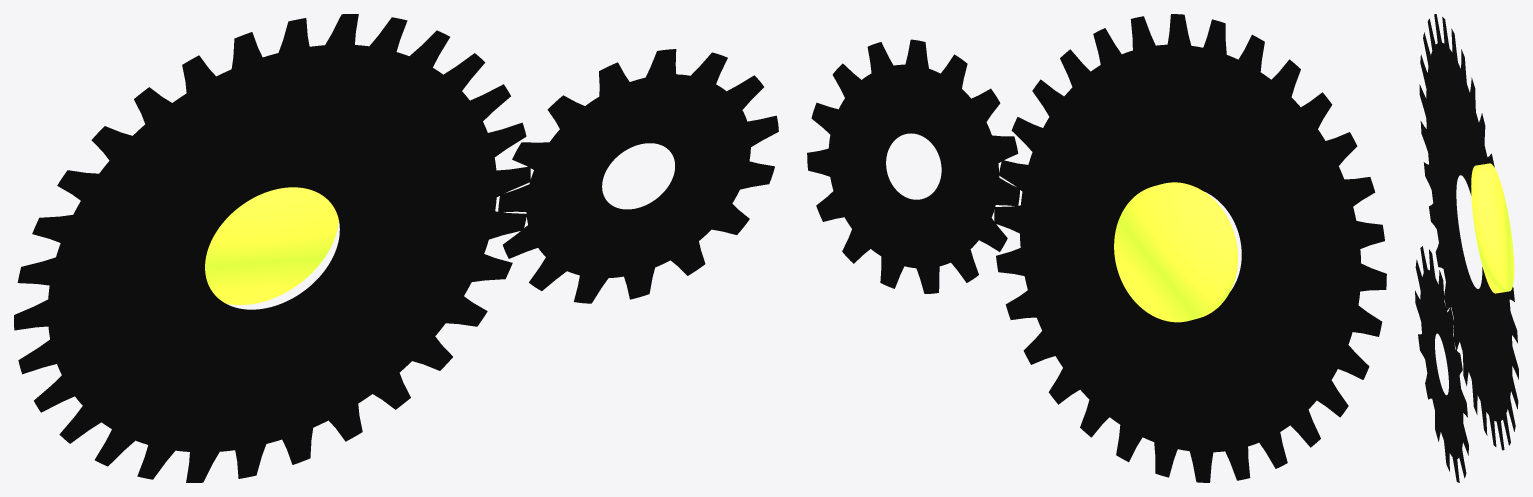
3 renders of one model, left to right at view 1: azimuth 30°, elevation 25°; view 2: azimuth 150°, elevation 25°; view 3: azimuth 270°, elevation 25°, orthographic. The views are drawn at different scales.
Visible parts, largest first — view 1: big, small, core; view 2: big, small, core; view 3: big, small, core.
Part boxes in pixels (x1,y1,x2,y2): big: (14,14,530,482); small: (498,49,778,303); core: (205,187,338,304); big: (994,14,1386,482); small: (807,39,1019,293); core: (1114,182,1237,322); big: (1419,14,1518,450); small: (1415,246,1468,482); core: (1471,163,1514,293).
Size of the model in its own units: 2.71 by 1.8 by 0.4331.
